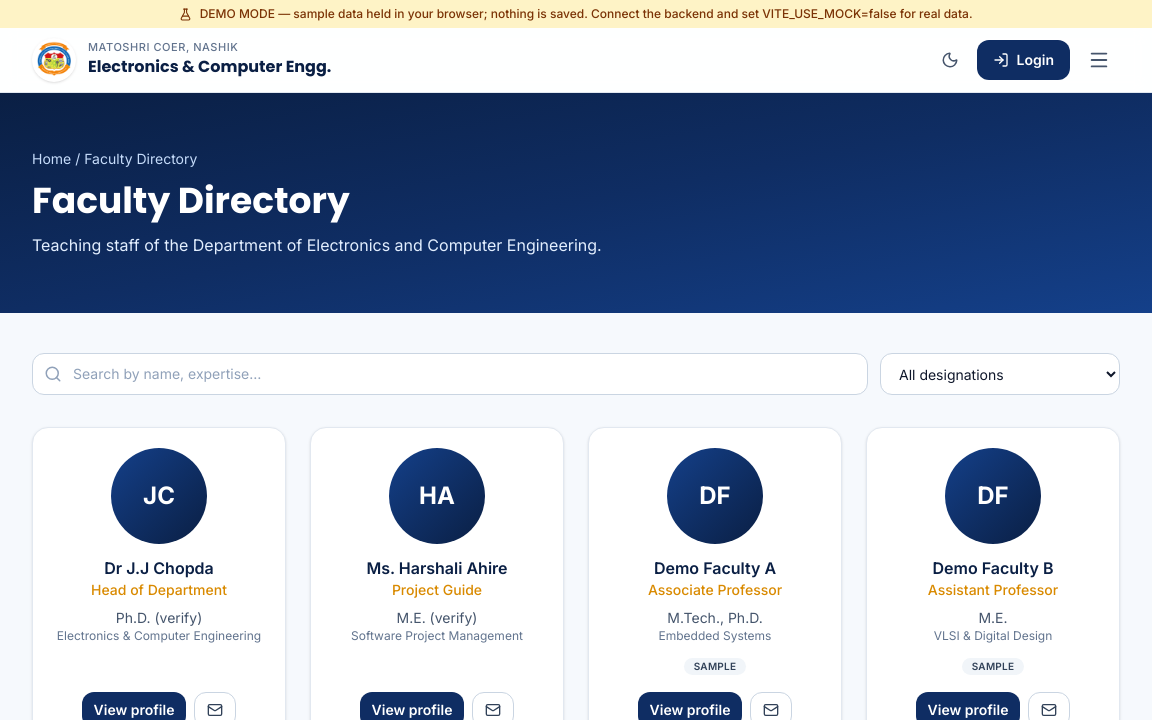
Test case: public pages (demo mode) › faculty directory searches and filters
This screenshot has width=1152, height=720.
Check: the heading "Dr J.J Chopda" is shown, box [104,558,214,578]
Step 1. Type "embedded" into the search field → (450, 374), box [32,353,868,395]
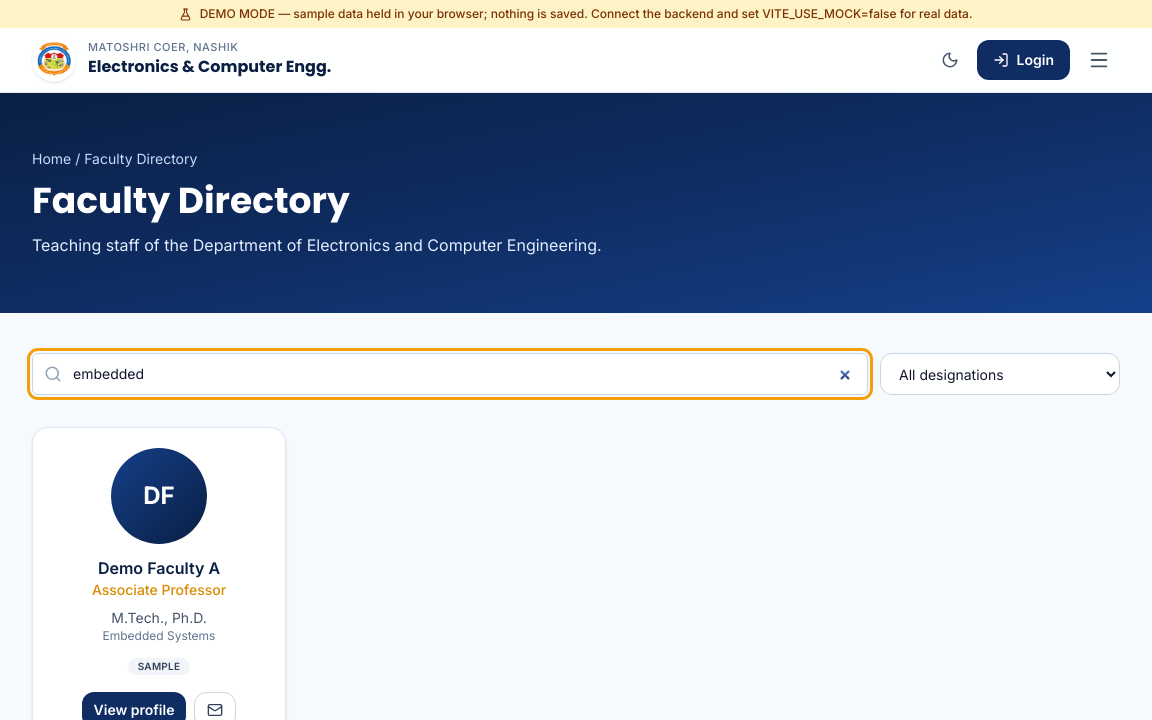
Check: the heading "Demo Faculty A" is shown, box [98,558,220,578]
Check: the heading "Dr J.J Chopda" is gone
